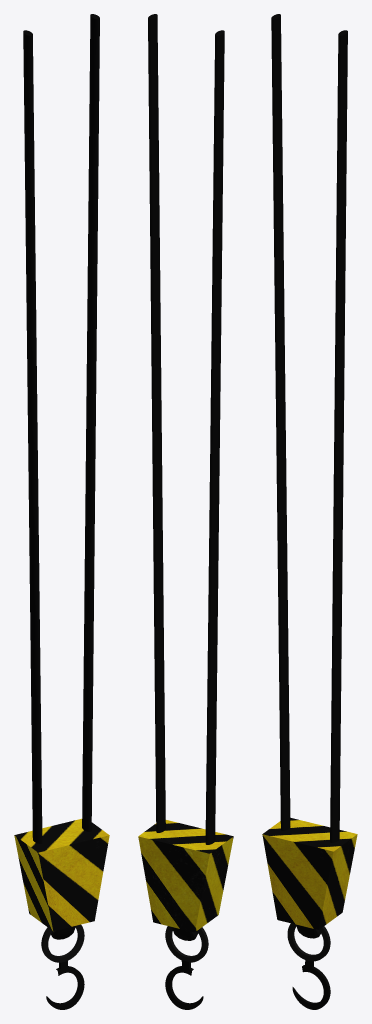
The model's file is Crane.glb.
3 renders of one model, left to right at view 1: azimuth 30°, elevation 25°; view 2: azimuth 150°, elevation 25°; view 3: azimuth 330°, elevation 25°, orthographic.
Visible parts, largest first — view 1: Cube; view 2: Cube; view 3: Cube.
Boxes of the visible parts, bbox=[...] form: Cube: bbox=[14, 14, 109, 1009]; Cube: bbox=[138, 14, 233, 1009]; Cube: bbox=[262, 14, 357, 1009].
Bounding box in the file's own units: 3.54 × 45.34 × 2.
3 materials, 1 textured.
